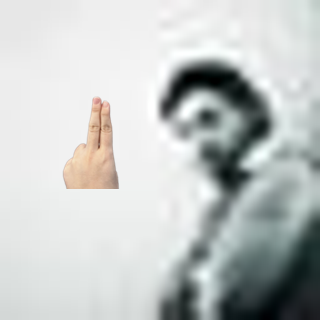DHAVE: (60, 93, 122, 189)
